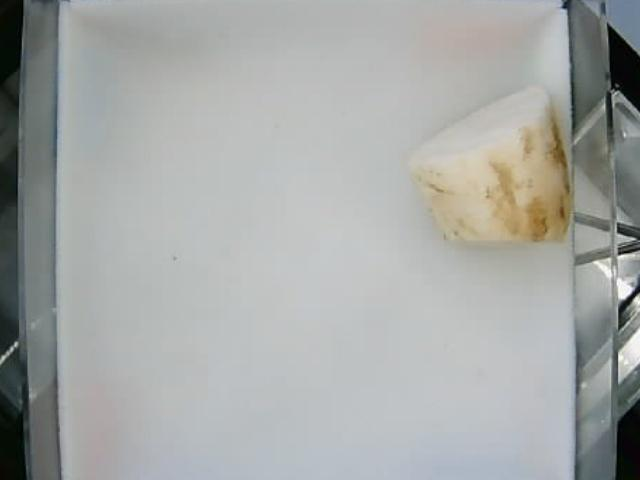Mooli: (407, 84, 571, 245)
